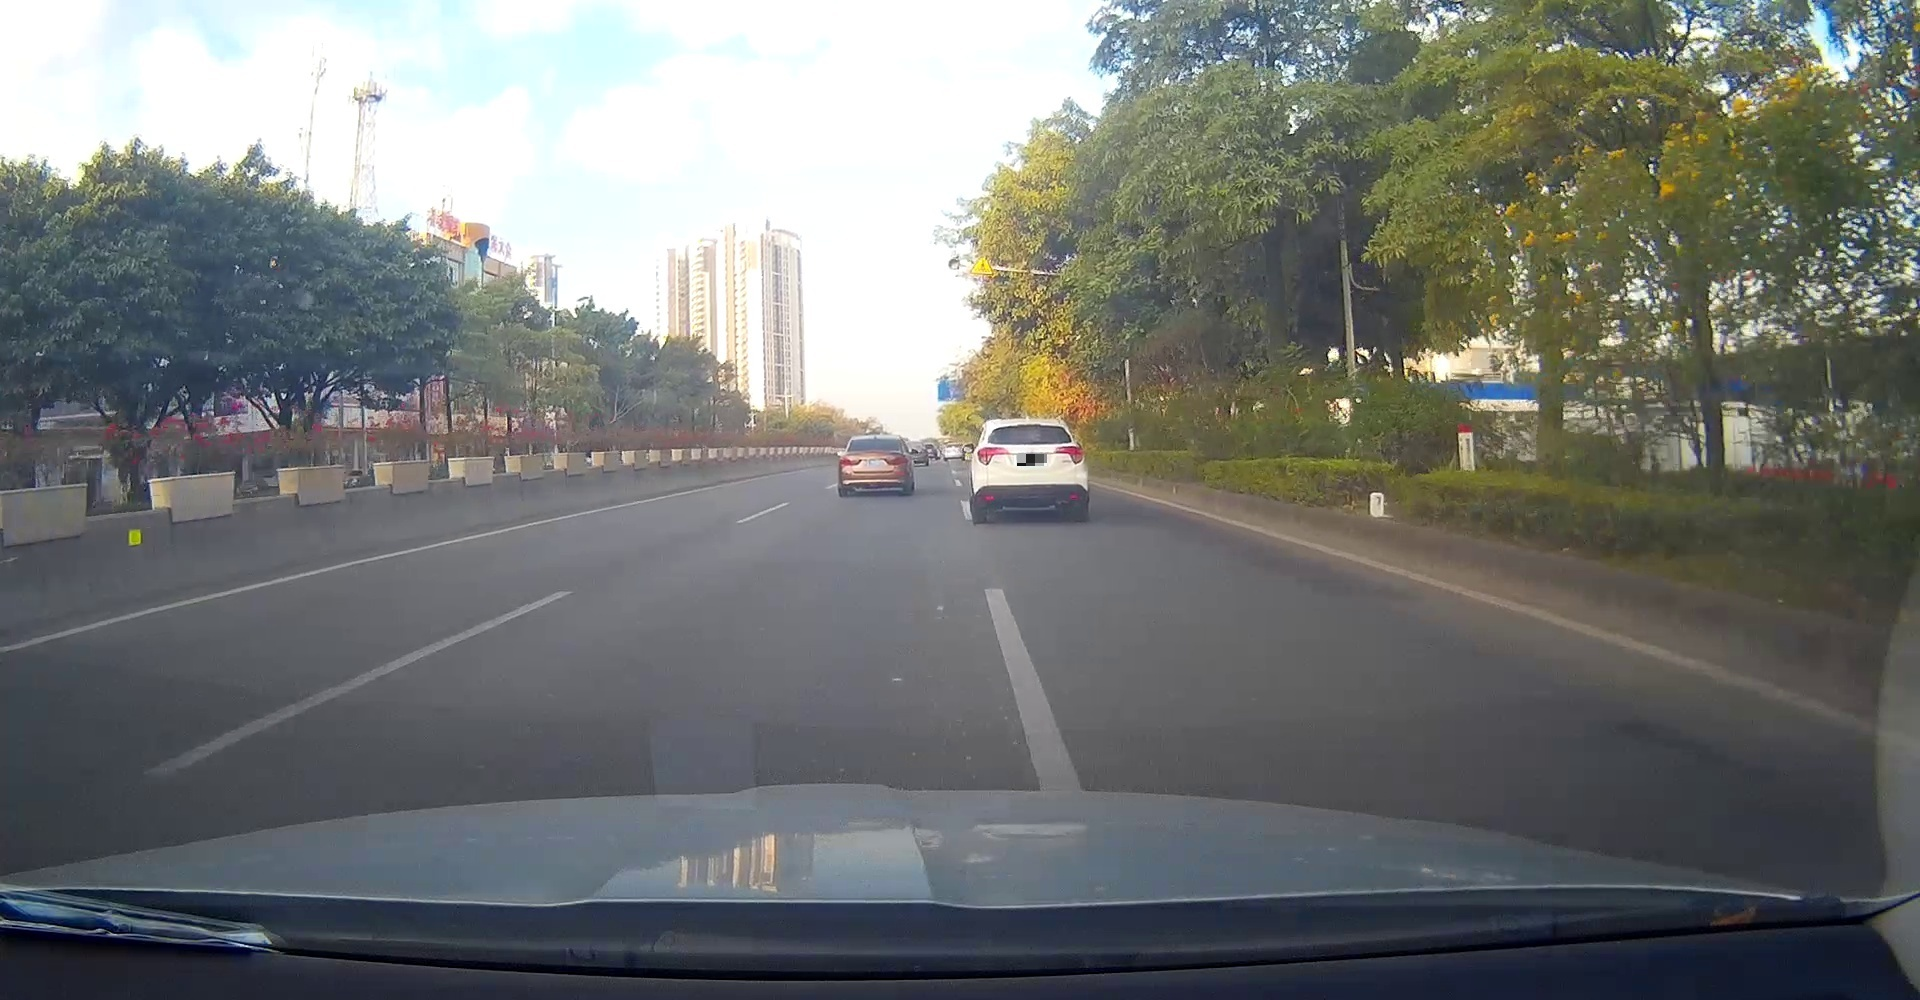L_light: (978, 447, 1010, 464), (841, 456, 861, 464)
R_light: (1055, 445, 1084, 464), (885, 456, 909, 464)
T_light: (1020, 424, 1040, 426), (871, 439, 881, 442)
day-no: (971, 418, 1088, 519), (837, 434, 910, 494)
plate_1: (1017, 454, 1048, 466)
